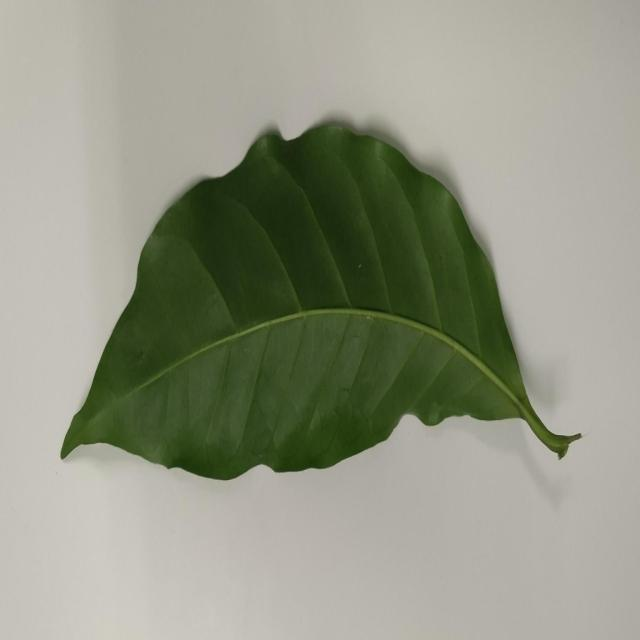Sanas: (59, 120, 582, 484)
